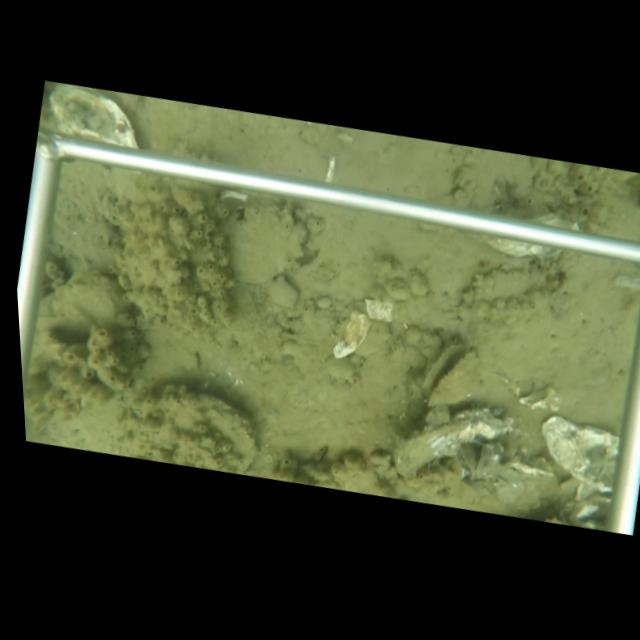Oyster-Indeterminate: (390, 405, 511, 483), (224, 210, 310, 288), (538, 413, 621, 492)
Oyster-Open: (419, 342, 483, 408), (452, 443, 479, 475)
